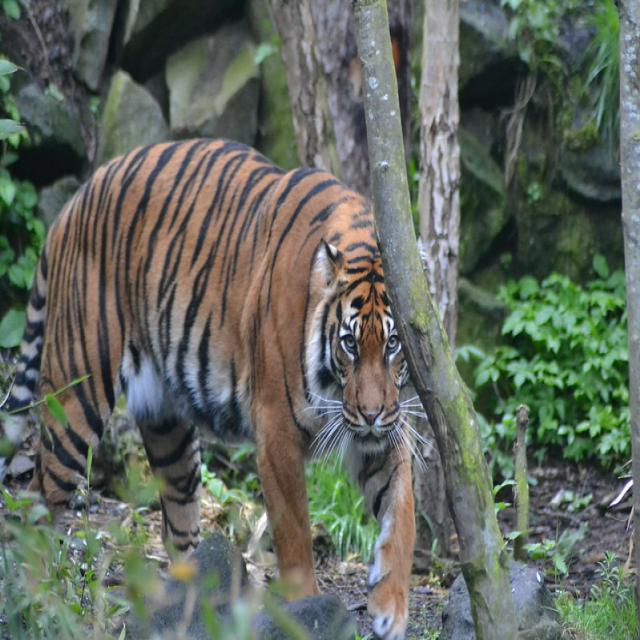Tiger: (26, 126, 440, 630)
